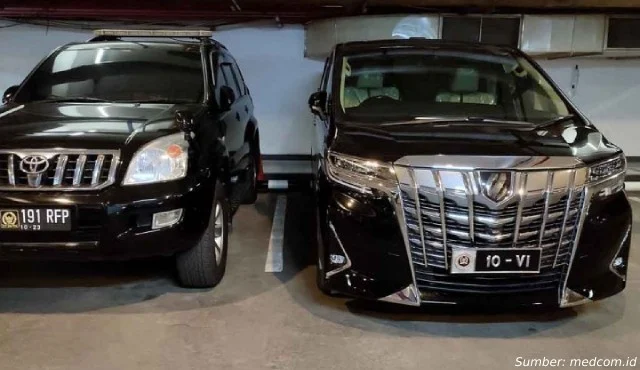plate: (474, 248, 542, 273), (19, 208, 74, 233)
